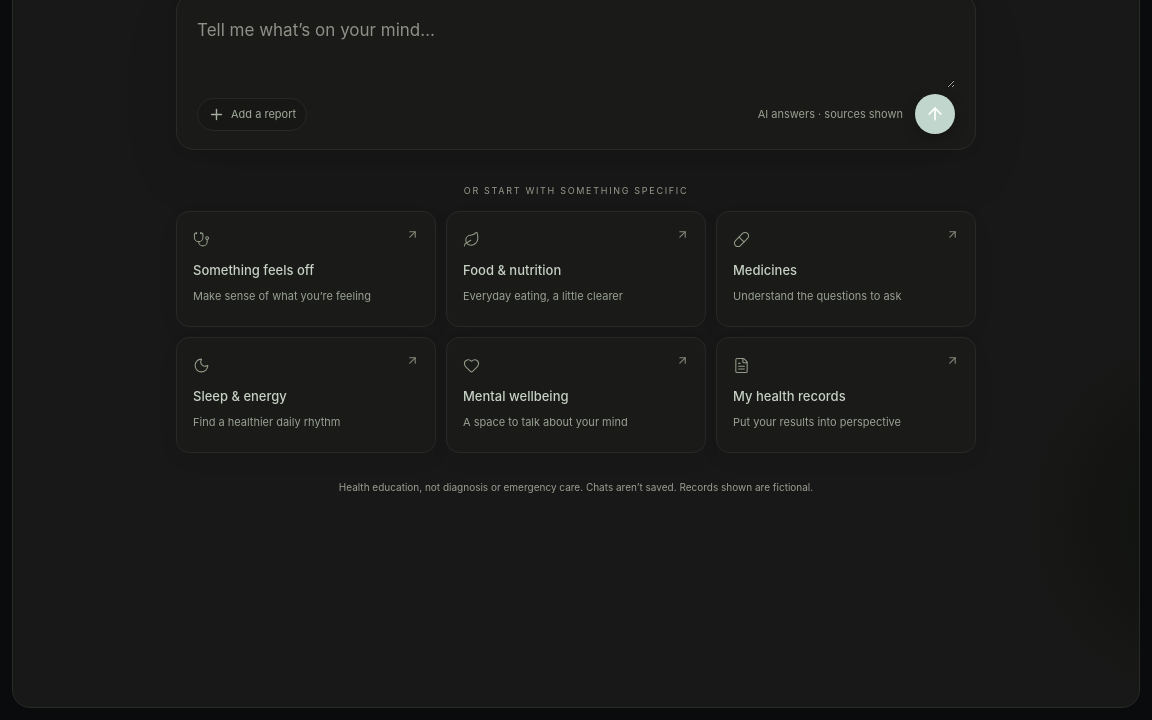
it: companion interactions › asks the hosted engine when one is configured, and says so
(page scrolled)
Click the button "Sleep & energy". click: x=240, y=396
box: left=176, top=337, right=436, bottom=453
(page scrolled)
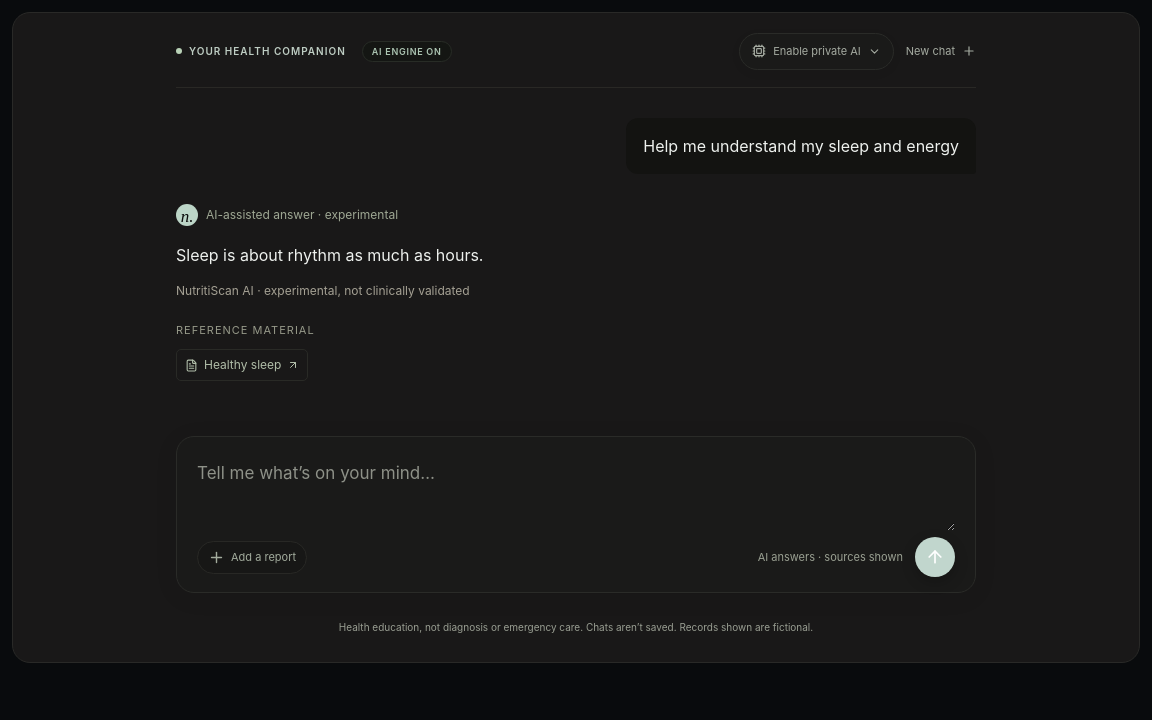
Check: the text "Sleep is about rhythm as much as hours." is shown, box left=176, top=245, right=484, bottom=265
Check: the text "NutritiScan AI · experimental, not clinically validated" is shown, box left=176, top=283, right=470, bottom=298
